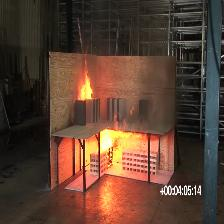fire: (101, 106, 144, 164), (81, 46, 92, 99)
